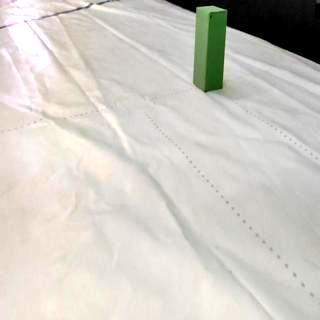greenbox: (193, 5, 226, 94)
